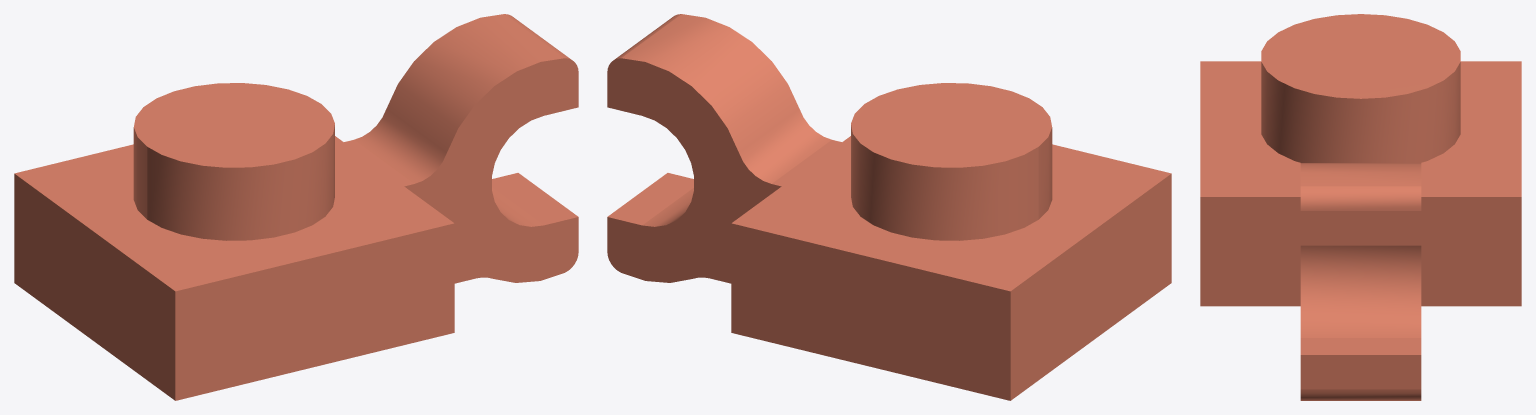
3 views of the same model, side by side, from view 1: azimuth 30°, elevation 25°; view 2: azimuth 150°, elevation 25°; view 3: azimuth 270°, elevation 25° (orthographic).
Visible parts, largest first — view 1: [pivoted]; view 2: [pivoted]; view 3: [pivoted].
Boxes of the visible parts, bbox=[...] form: [pivoted]: bbox=[14, 14, 578, 400]; [pivoted]: bbox=[607, 14, 1171, 400]; [pivoted]: bbox=[1200, 14, 1521, 400].
Size of the model in its own units: 1.3 by 0.5997 by 0.8.
